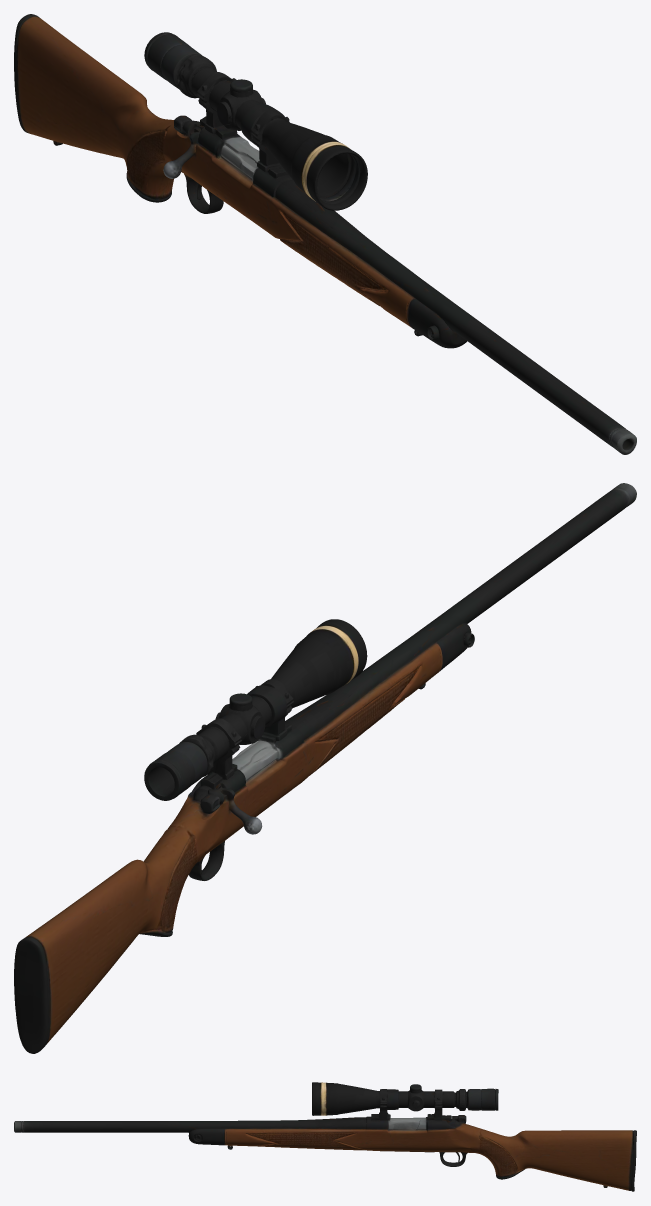
The model's file is hunting.glb.
The picture shows the model from 3 angles, top to bottom: view 1: azimuth 30°, elevation 25°; view 2: azimuth 150°, elevation 25°; view 3: azimuth 270°, elevation 25°; orthographic projection. The views are drawn at different scales.
Parts seen in each view (by area): view 1: model; view 2: model; view 3: model.
Part boxes in pixels (x1,y1,x2,y2): model: (14,14,636,454); model: (14,483,636,1053); model: (14,1082,636,1191).
Bounding box in the file's own units: 0.1379 × 0.3617 × 1.9.
1 material, 1 textured.
